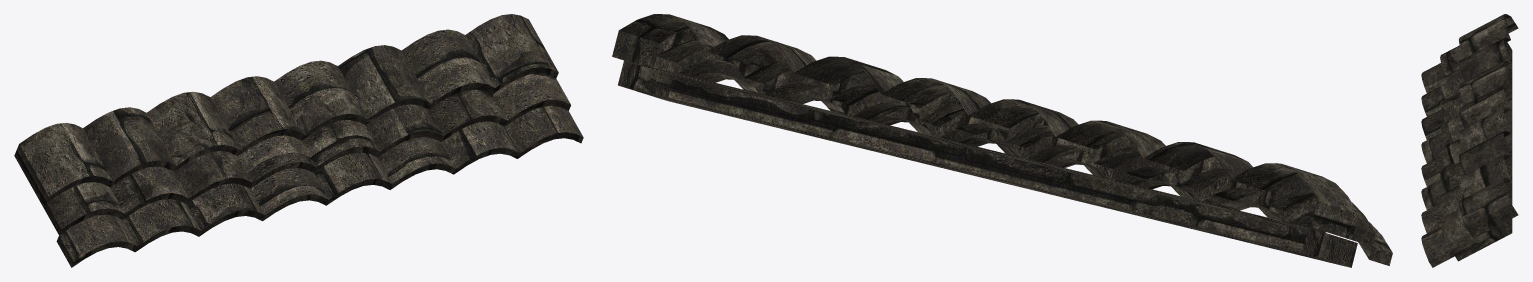
Rendered from grabobject.fbx.
3 renders of one model, left to right at view 1: azimuth 30°, elevation 25°; view 2: azimuth 150°, elevation 25°; view 3: azimuth 270°, elevation 25°, orthographic. The views are drawn at different scales.
Parts seen in each view (by area): view 1: grabobject1; view 2: grabobject1; view 3: grabobject1.
Boxes of the visible parts, bbox=[...] form: grabobject1: bbox=[14, 14, 583, 267]; grabobject1: bbox=[612, 14, 1392, 267]; grabobject1: bbox=[1421, 14, 1518, 267].
Bounding box in the file's own units: 128 × 24.4 × 28.17.
1 material, 1 textured.
